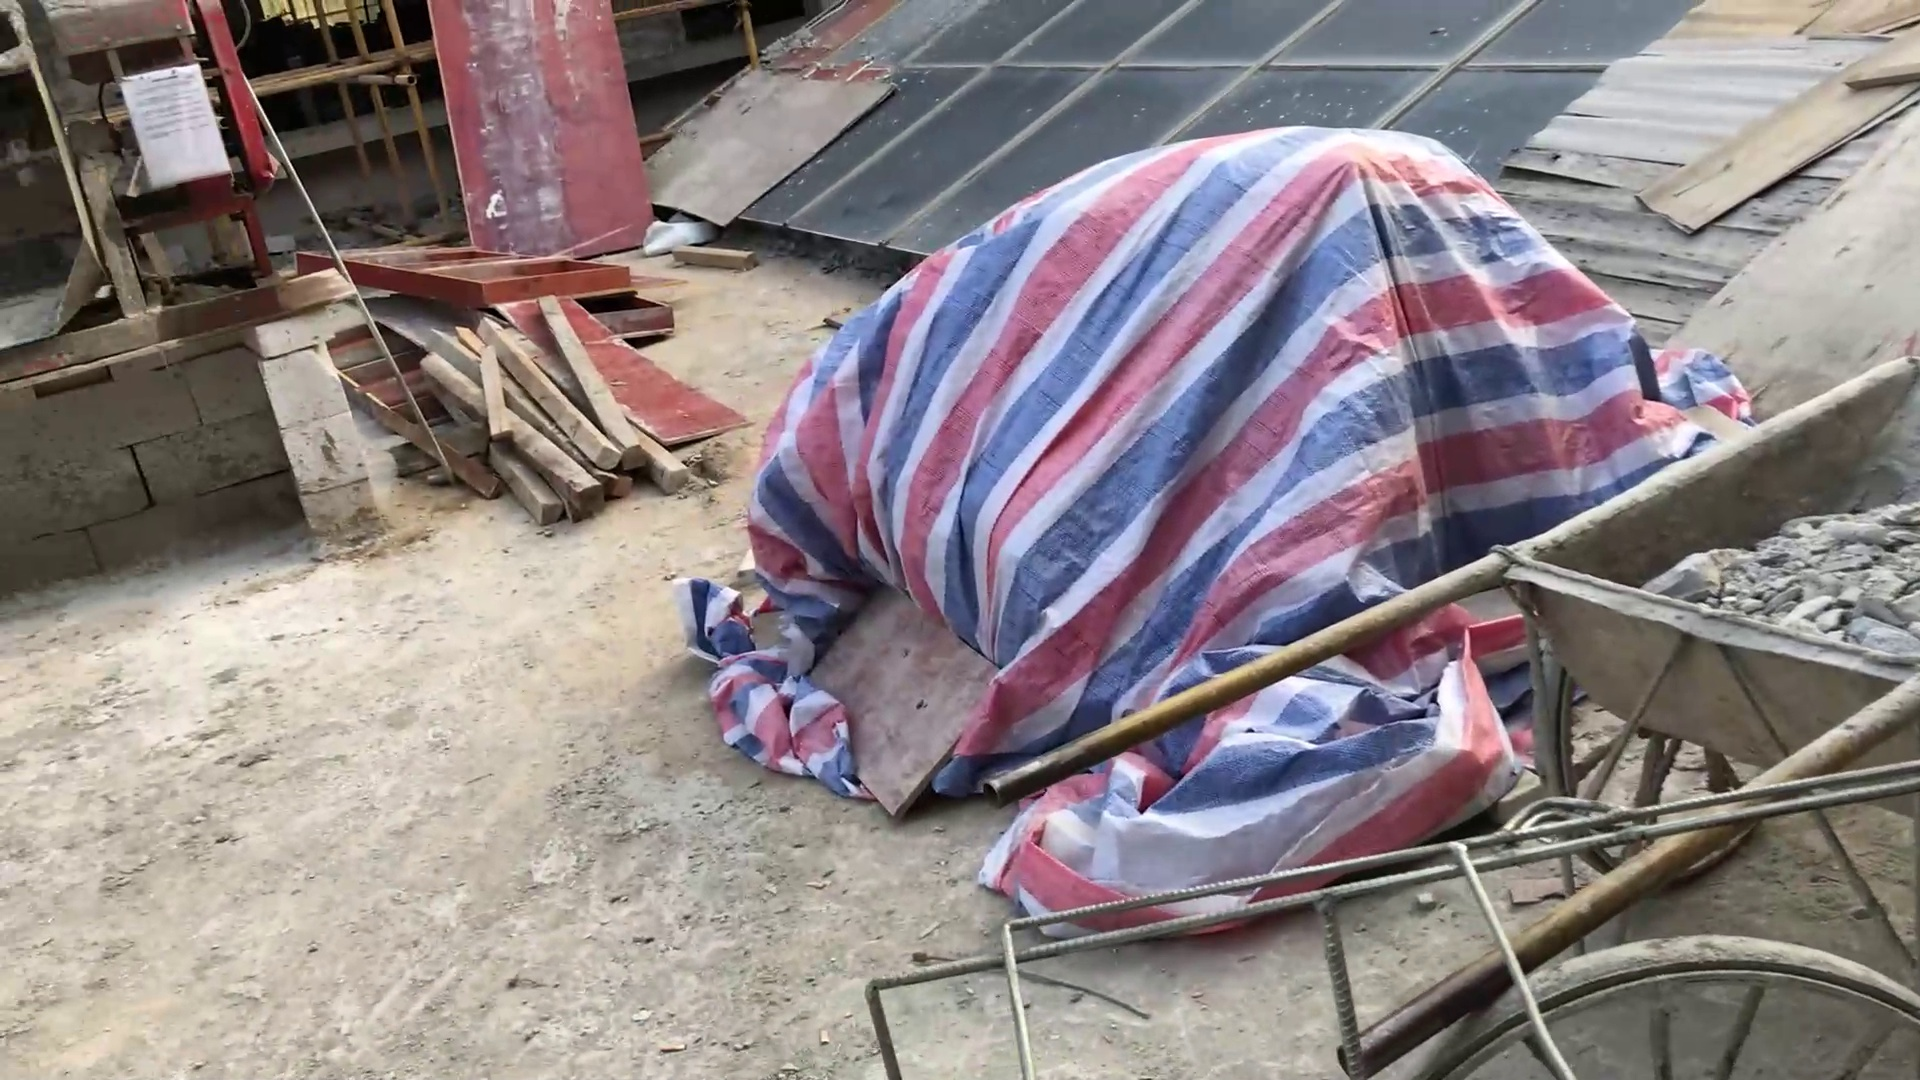handcart: (949, 345, 1920, 924)
wood: (410, 311, 698, 514)
